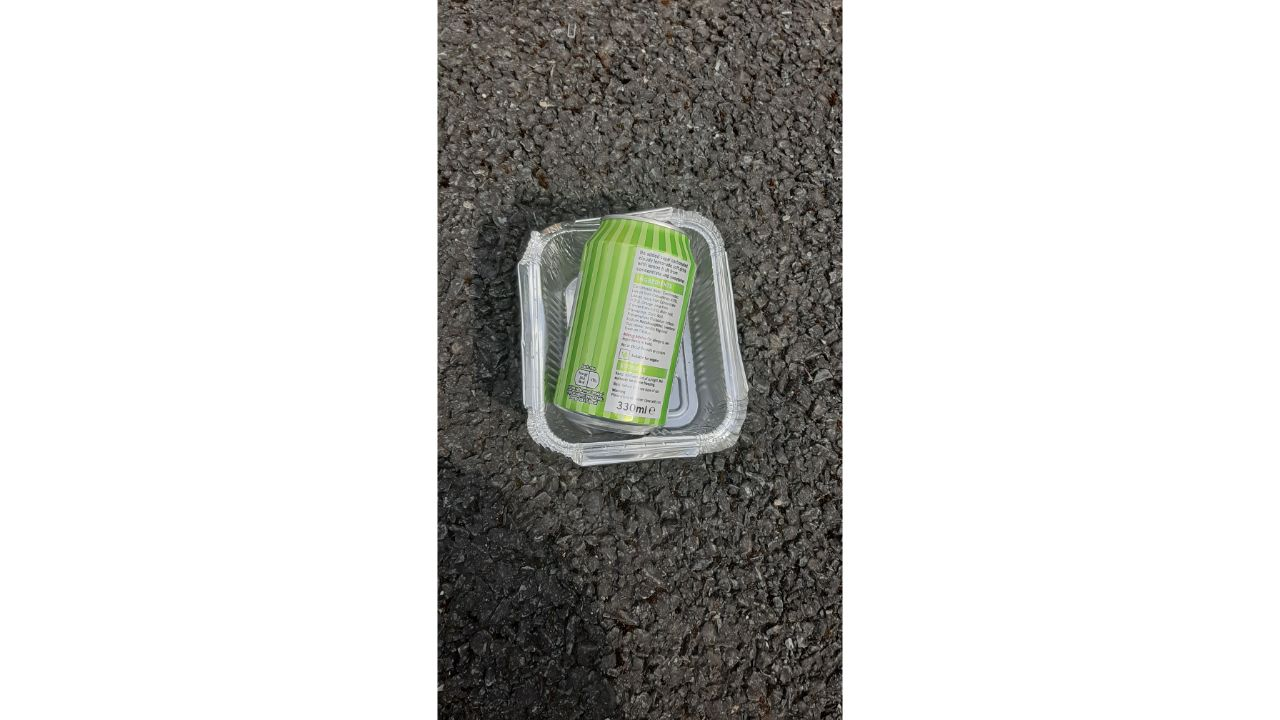Can: (550, 207, 703, 440)
